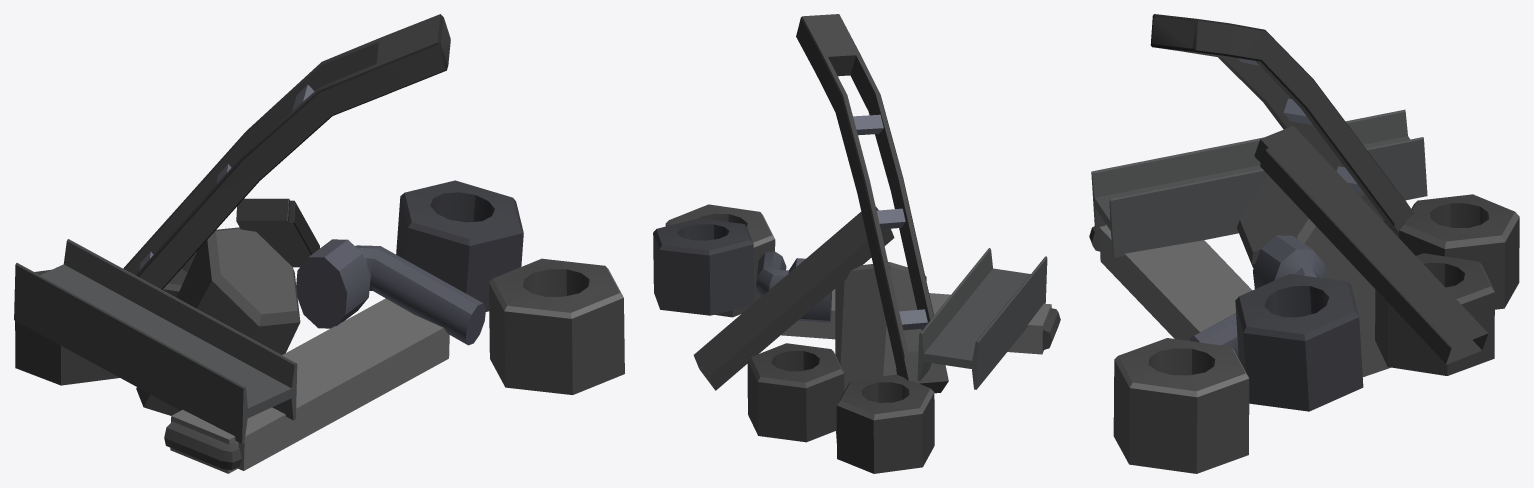
Rendered from scrap_2.fbx.
3 renders of one model, left to right at view 1: azimuth 30°, elevation 25°; view 2: azimuth 150°, elevation 25°; view 3: azimuth 270°, elevation 25°, orthographic. The views are drawn at different scales.
Parts seen in each view (by area): view 1: scrap_high; view 2: scrap_high; view 3: scrap_high.
Boxes of the visible parts, x1,y1,x2,y2 form: scrap_high: [14, 14, 624, 473]; scrap_high: [653, 14, 1060, 473]; scrap_high: [1089, 14, 1519, 473].
Size of the model in its own units: 239 by 195 by 181.
